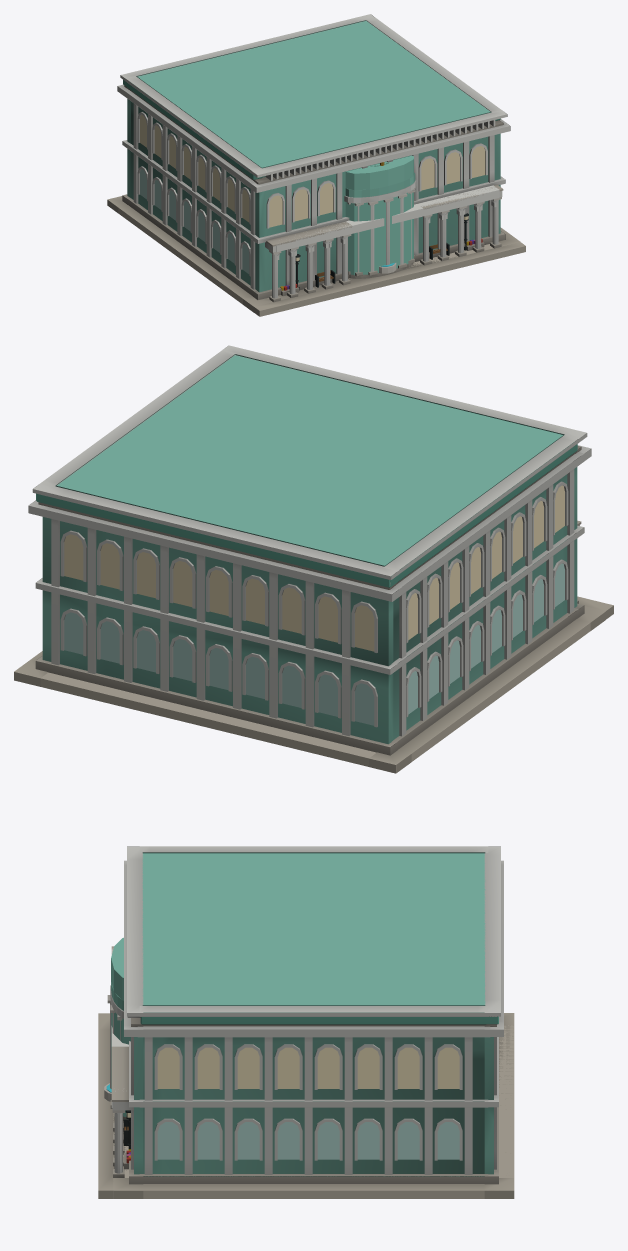
Rendered from SpringAntelopeFloor.fbx.
3 views of the same model, one above another, from view 1: azimuth 30°, elevation 25°; view 2: azimuth 150°, elevation 25°; view 3: azimuth 270°, elevation 25° (orthographic). The views are drawn at different scales.
Parts seen in each view (by area): view 1: SP_S_All, SP_F_Smooth, SP_F_Rings, SP_F_Glass, SP_F_Quiet; view 2: SP_S_All, SP_F_Rings, SP_F_Smooth, SP_F_Glass, SP_F_Quiet; view 3: SP_S_All, SP_F_Rings, SP_F_Smooth, SP_F_Glass, SP_F_Quiet.
Part boxes in pixels (x1,y1,x2,y2): SP_S_All: (108, 21, 520, 306); SP_F_Smooth: (107, 14, 525, 316); SP_F_Rings: (118, 14, 509, 292); SP_F_Glass: (140, 114, 485, 273); SP_F_Quiet: (108, 120, 525, 310); SP_S_All: (14, 355, 605, 773); SP_F_Rings: (29, 345, 590, 744); SP_F_Smooth: (14, 345, 613, 773); SP_F_Glass: (64, 485, 564, 725); SP_F_Quiet: (14, 446, 613, 764); SP_S_All: (111, 853, 514, 1198); SP_F_Rings: (110, 846, 503, 1176); SP_F_Smooth: (98, 846, 513, 1198); SP_F_Glass: (106, 1047, 459, 1159); SP_F_Quiet: (98, 1013, 513, 1190).
Bounding box in the file's own units: 60 × 20 × 60.
